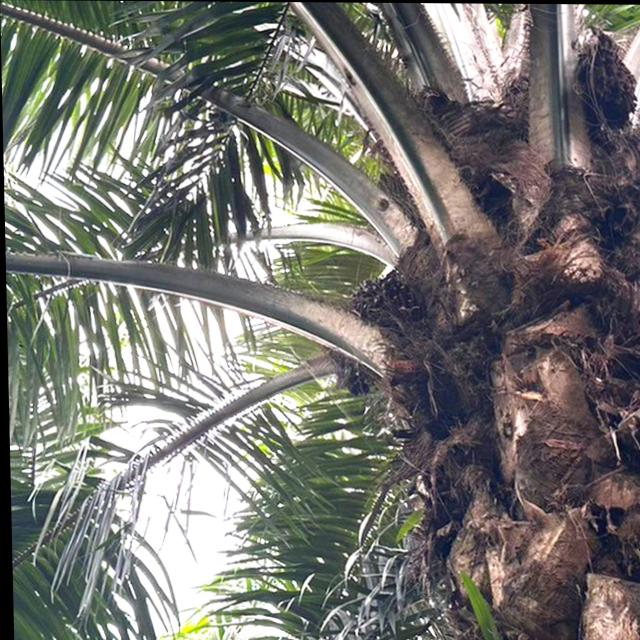almost: (324, 265, 413, 394)
